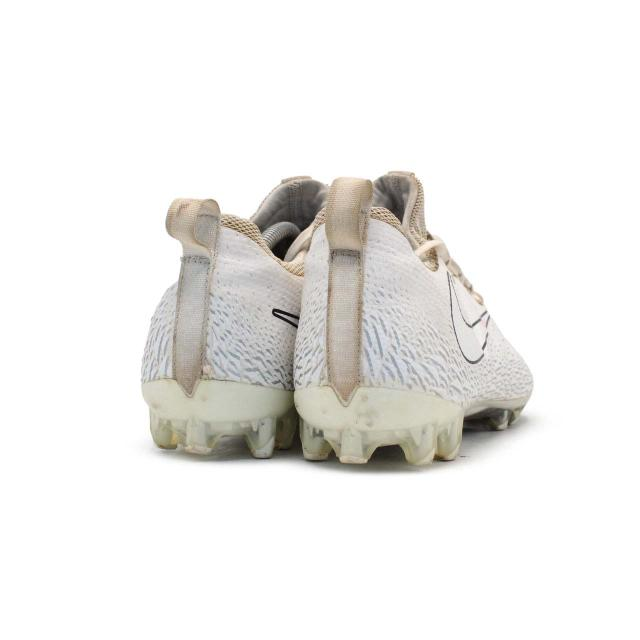heel: (290, 179, 442, 402), (142, 205, 298, 385)
midsole: (294, 385, 533, 463), (139, 375, 289, 458)
